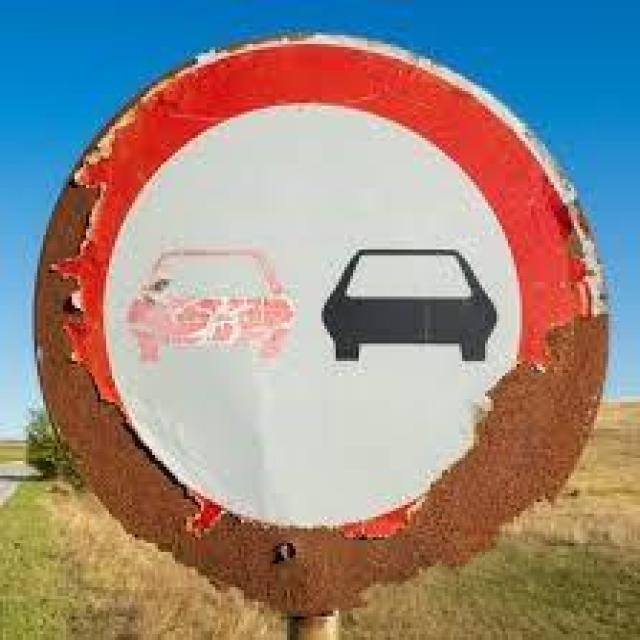obstructed_road_sign: (35, 35, 608, 614)
